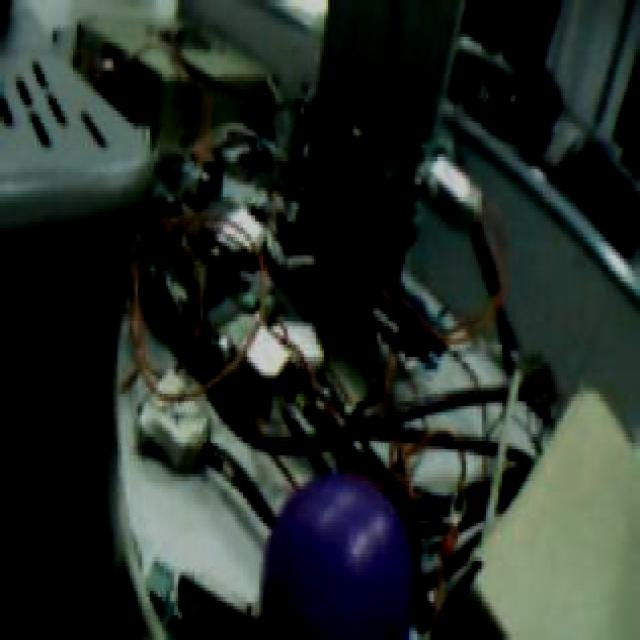BallPurple: (266, 472, 415, 640)
